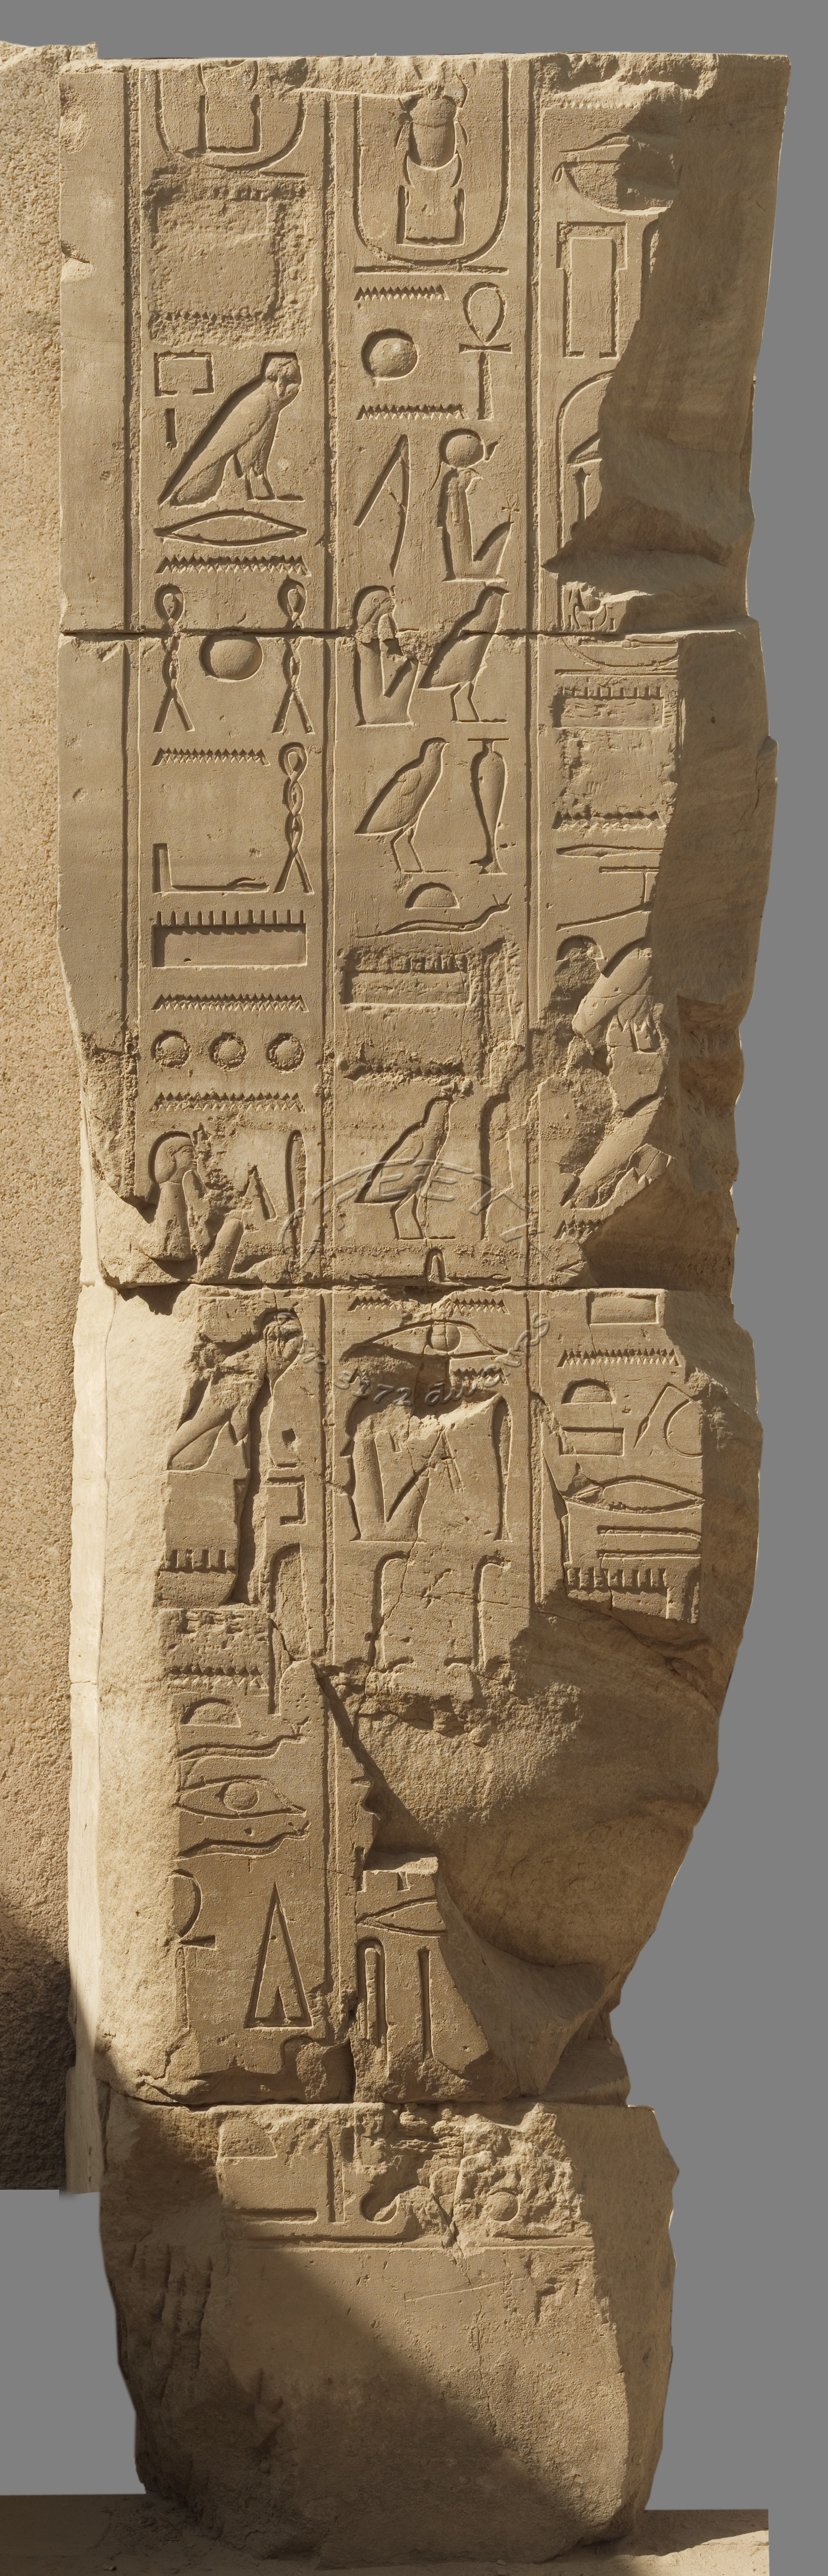D21: (550, 1470, 723, 1528), (141, 506, 317, 554)
D4: (352, 1316, 516, 1373), (169, 1764, 310, 1827)
G17: (148, 352, 320, 511)
G43: (345, 731, 465, 881), (363, 1089, 470, 1247), (421, 583, 511, 729)
N35: (143, 984, 317, 1028), (347, 1288, 514, 1329), (140, 1079, 312, 1119), (550, 1337, 690, 1378), (154, 549, 317, 583), (539, 802, 679, 841), (158, 1659, 269, 1705), (143, 741, 276, 775), (345, 276, 452, 310), (348, 402, 470, 427)
X8: (232, 1878, 325, 2037)
